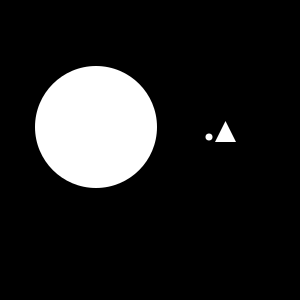rectangle: (35, 66, 157, 188), (205, 134, 212, 140)
triangle: (215, 121, 236, 142)
